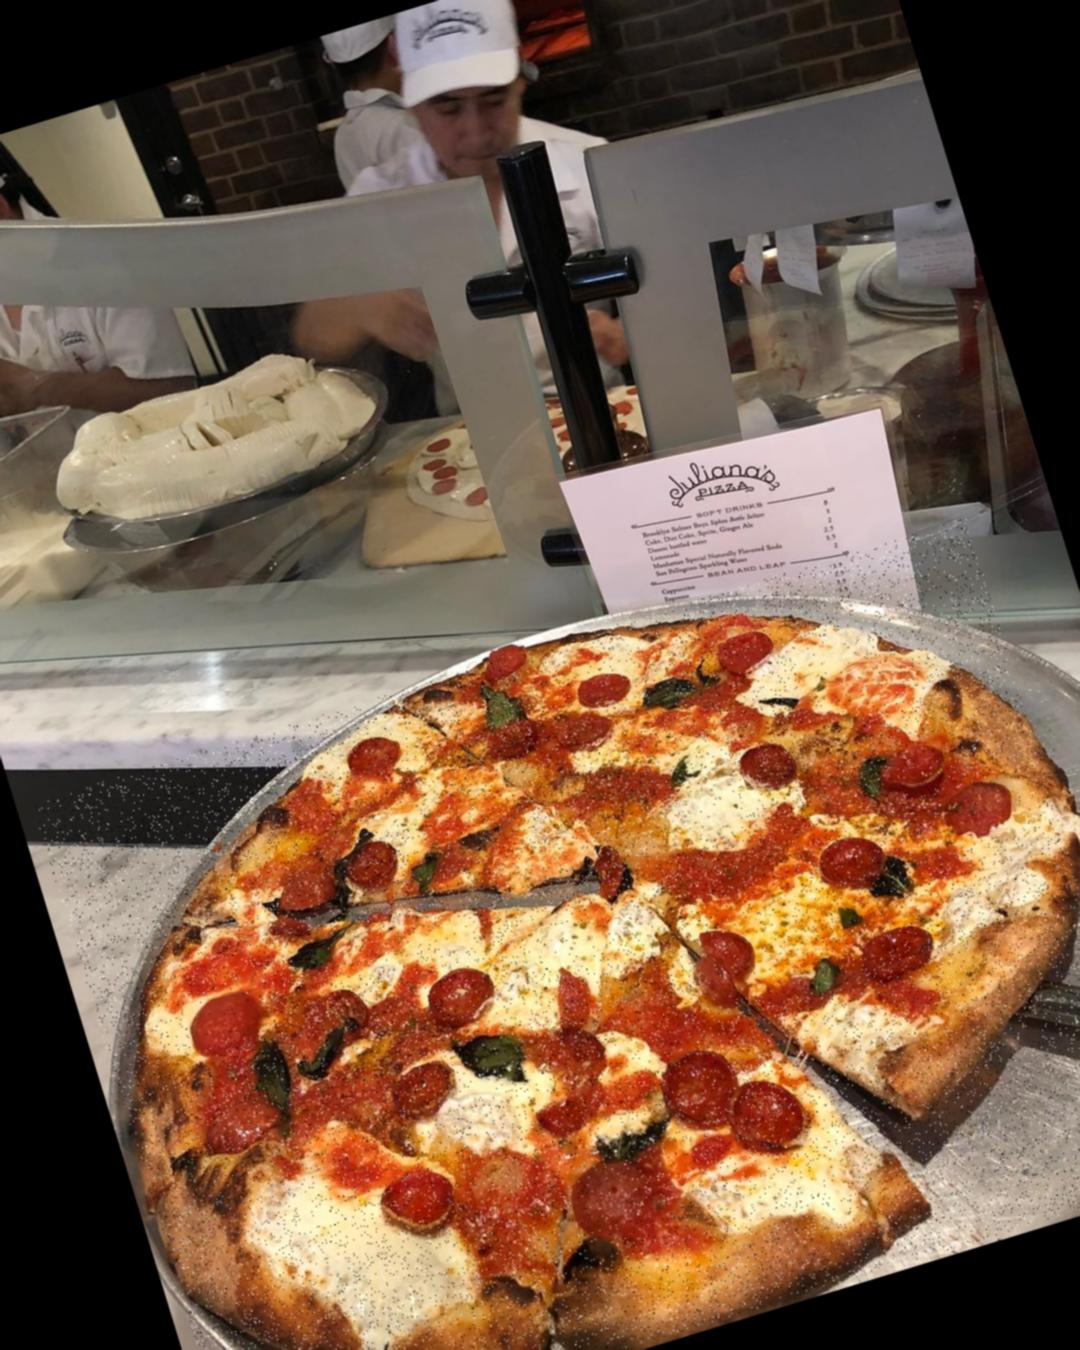Basil: (454, 1024, 542, 1097), (247, 1036, 306, 1136), (288, 1013, 372, 1081), (593, 1112, 677, 1167), (468, 672, 529, 731), (289, 924, 357, 975), (639, 668, 701, 716), (867, 853, 921, 905), (854, 749, 896, 803), (798, 952, 845, 998), (410, 847, 444, 890), (835, 898, 866, 930)
Cheese: (289, 1192, 413, 1349), (722, 1128, 864, 1220), (795, 630, 887, 723), (515, 903, 613, 978), (957, 833, 1032, 912), (680, 776, 746, 840), (812, 1004, 874, 1067), (565, 633, 629, 677), (418, 914, 477, 960), (379, 802, 421, 830)
Pepperoni: (652, 1037, 756, 1154), (563, 1147, 669, 1253), (720, 1065, 821, 1164), (368, 1158, 474, 1251), (688, 918, 773, 1009), (857, 916, 946, 993), (183, 983, 271, 1059), (421, 958, 503, 1036), (941, 770, 1025, 846), (385, 1051, 469, 1125), (876, 734, 955, 801), (817, 829, 890, 896), (268, 860, 342, 920), (736, 734, 804, 798), (343, 730, 413, 790), (341, 832, 408, 892), (479, 711, 546, 767), (716, 627, 781, 683), (572, 661, 639, 712), (551, 708, 614, 758), (480, 641, 531, 685)
Pizza: (31, 518, 1080, 1350)
